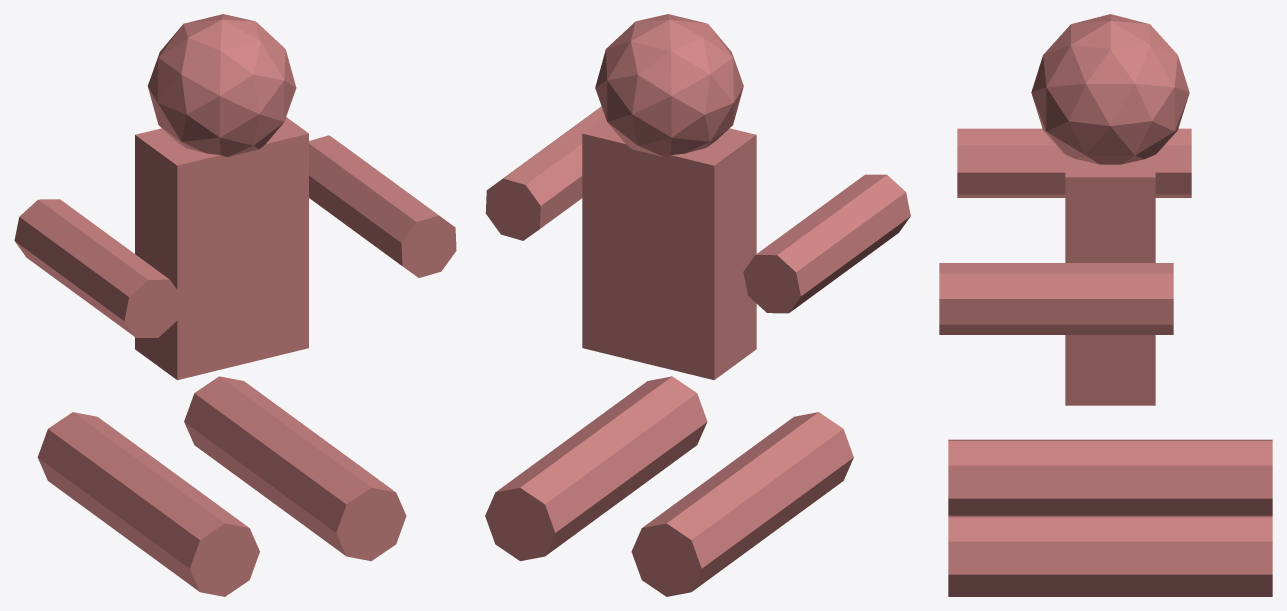
The model's file is lowpoly_humanoid_red.glb.
3 views of the same model, side by side, from view 1: azimuth 30°, elevation 25°; view 2: azimuth 150°, elevation 25°; view 3: azimuth 270°, elevation 25° (orthographic). The views are drawn at different scales.
Parts seen in each view (by area): view 1: world; view 2: world; view 3: world.
Part boxes in pixels (<box>): world: <box>14,14,456,596</box>; world: <box>485,14,910,596</box>; world: <box>939,14,1272,596</box>.
Bounding box in the file's own units: 1.11 × 1.64 × 0.925.
